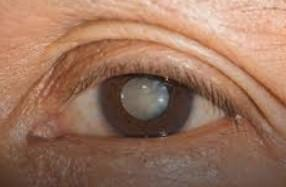eye: (99, 74, 192, 139)
